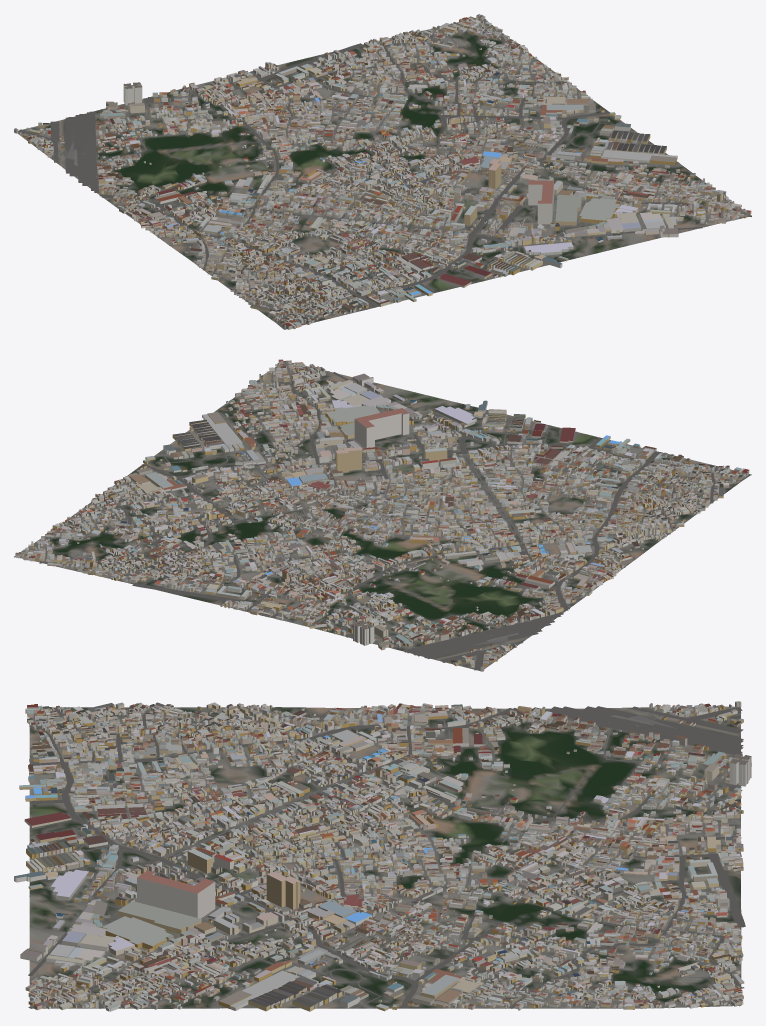
3 renders of one model, top to bottom at view 1: azimuth 30°, elevation 25°; view 2: azimuth 150°, elevation 25°; view 3: azimuth 270°, elevation 25°, orthographic. The views are drawn at different scales.
Parts seen in each view (by area): view 1: buildings, ground, roads; view 2: buildings, ground, roads; view 3: buildings, ground, roads.
Part boxes in pixels (x1,y1,x2,y2): buildings: (14, 14, 751, 329); ground: (17, 19, 751, 329); roads: (18, 22, 751, 329); buildings: (15, 359, 749, 671); ground: (14, 362, 749, 670); roads: (14, 361, 751, 670); buildings: (14, 701, 751, 1011); ground: (29, 706, 741, 1008); roads: (28, 706, 745, 1008).
Size of the model in its own units: 1424 by 66.53 by 1453.
